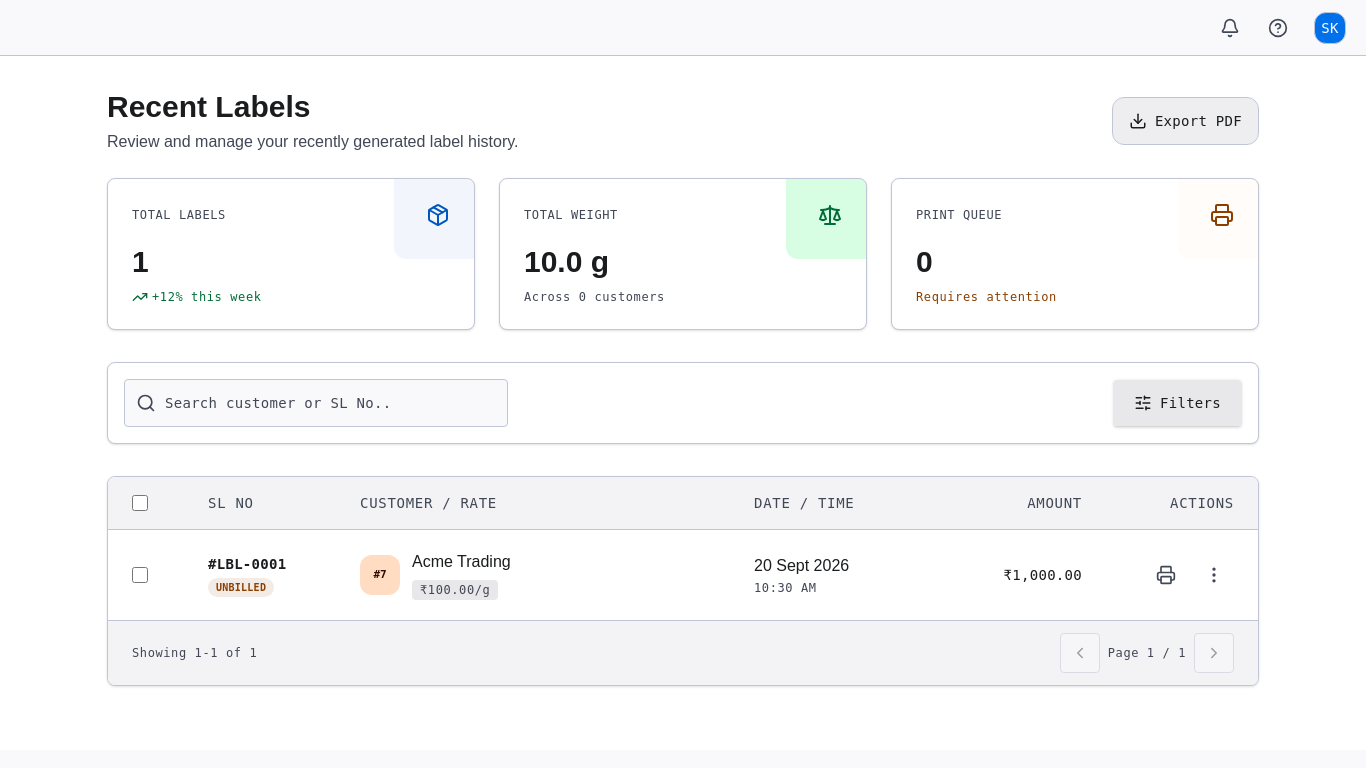
Test case: Dashboard label row — direct print › prints the label from the row print icon
Click the button named "Print Label" at (1166, 575), box [1146,555,1186,595]
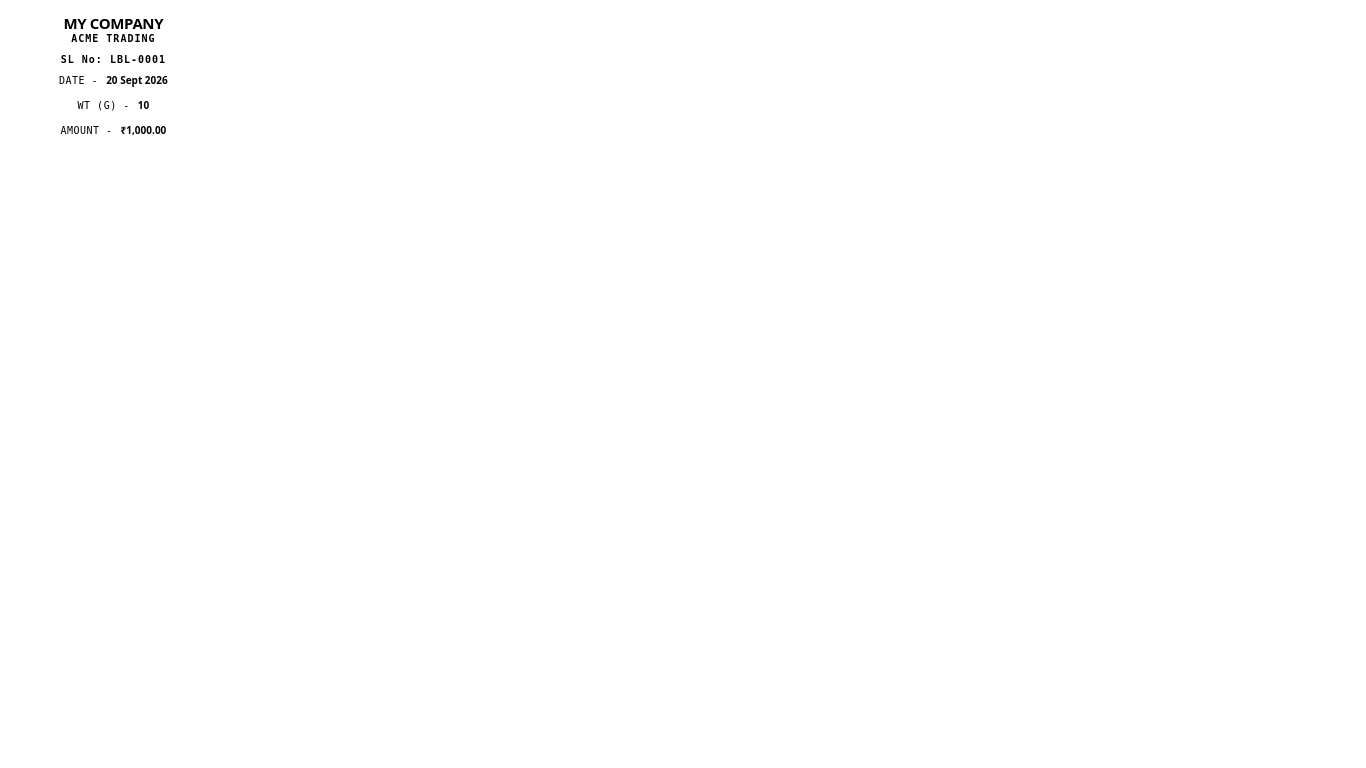
Expected: the element that starts with "My Company" shows "₹1,000.00", [121,123,166,137]
